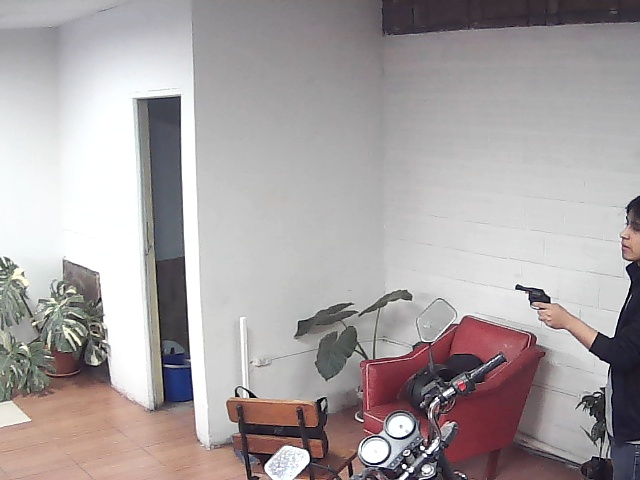pistola: (511, 277, 572, 335)
